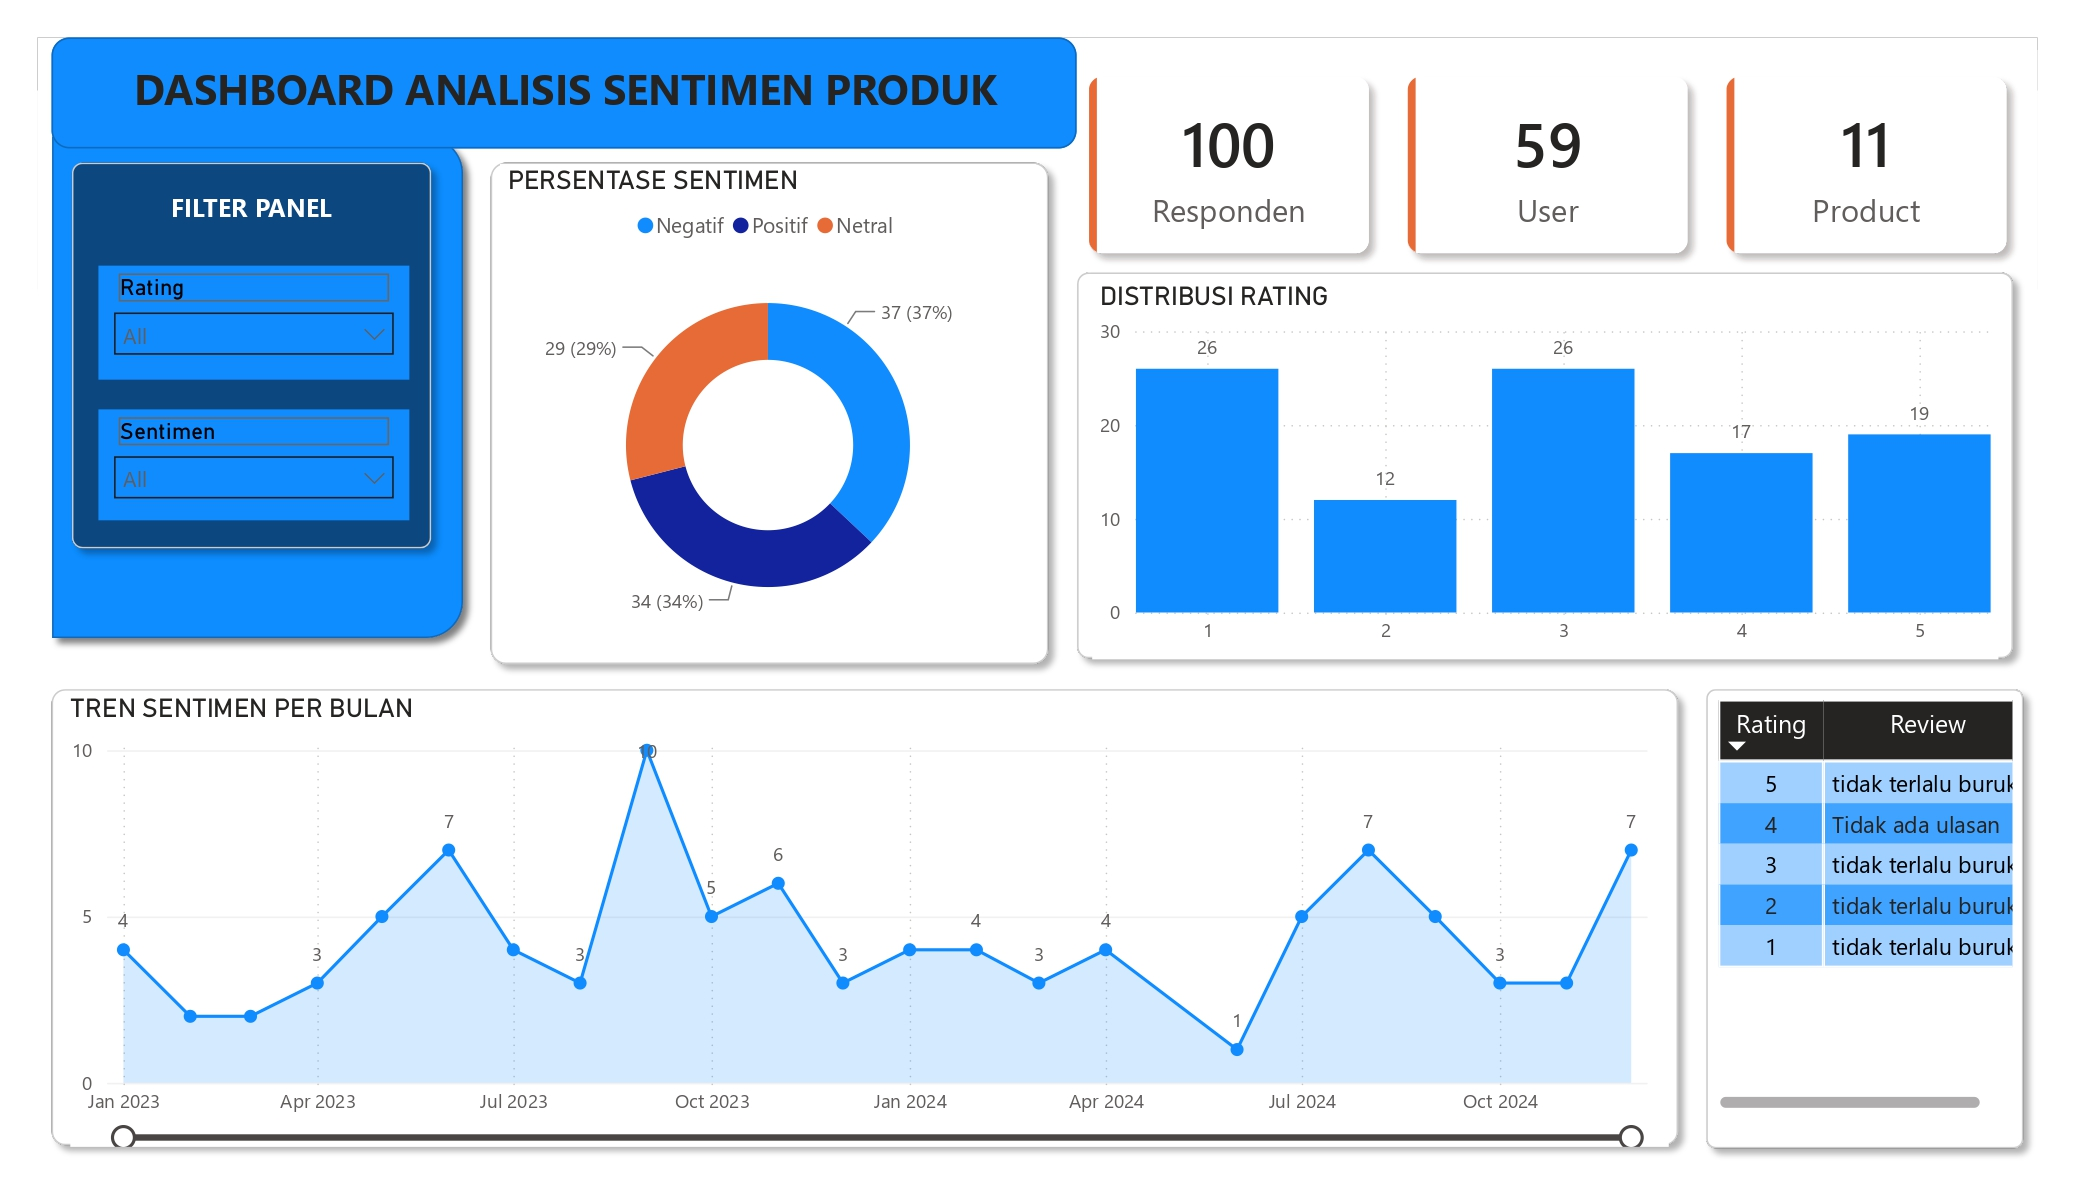

Layout of this report page (visuals, bound fields, positions):
{"tool":"powerbi","page":{"name":"Page 1","canvas":[1280,720],"ordinal":0},"visuals":[{"type":"cardVisual","fields":{"Data":["CountNonNull(hasil_sentimen.user_id)1","Count(hasil_sentimen.user_id)","Count(hasil_sentimen.product_id)"]},"box":[656.2,7.5,623.8,147.5],"z":0},{"type":"shape","box":[0,53.8,281.2,338.8],"z":1000},{"type":"shape","box":[281.2,71.2,375,338.8],"z":2000},{"type":"donutChart","title":"PERSENTASE SENTIMEN","fields":{"Category":["hasil_sentimen.label_sentimen"],"Y":["CountNonNull(hasil_sentimen.label_sentimen)"]},"box":[296.2,81.2,342.5,311.2],"z":3000},{"type":"shape","box":[656.2,141.2,616.2,265],"z":4000},{"type":"shape","box":[0,407.5,1058.8,310],"z":5000},{"type":"columnChart","title":"DISTRIBUSI RATING","fields":{"Y":["CountNonNull(hasil_sentimen.label_sentimen)"],"Category":["hasil_sentimen.rating"]},"box":[675,155,580,242.5],"z":6000},{"type":"lineChart","title":"TREN SENTIMEN PER BULAN","fields":{"Y":["CountNonNull(hasil_sentimen.label_sentimen)"],"Category":["hasil_sentimen.bulan.Variation.Date Hierarchy.Year","hasil_sentimen.bulan.Variation.Date Hierarchy.Month"]},"box":[21.2,418.8,1022.5,291.2],"z":7000},{"type":"shape","box":[1058.8,407.5,221.2,312.5],"z":8000},{"type":"pivotTable","fields":{"Rows":["hasil_sentimen.rating"],"Values":["Max(hasil_sentimen.review_text)"]},"box":[1071.2,418.8,197.5,272.5],"z":9000},{"type":"shape","box":[12.5,71.2,248.8,265],"z":10000},{"type":"textbox","box":[65,92.5,143.8,31.2],"z":11000},{"type":"slicer","title":"Rating","fields":{"Values":["hasil_sentimen.rating"]},"box":[38.8,146.2,198.8,72.5],"z":12000},{"type":"slicer","title":"Rating","fields":{"Values":["hasil_sentimen.label_sentimen"]},"box":[38.8,237.5,198.8,71.2],"z":13000},{"type":"shape","box":[8.8,0,656.2,71.2],"z":14000},{"type":"textbox","box":[52.5,8.8,570,53.8],"z":15000}]}

Visuals, with their boxes in screenshot pixels (x1, y1, x2, y2):
cardVisual - CountNonNull(hasil_sentimen.user_id)1 x Count(hasil_sentimen.user_id): 1055,44,2017,271
shape: 43,115,477,638
shape: 477,142,1055,665
"PERSENTASE SENTIMEN" donutChart: 500,158,1028,638
shape: 1055,250,2005,659
shape: 43,661,1676,1139
"DISTRIBUSI RATING" columnChart: 1084,271,1978,645
"TREN SENTIMEN PER BULAN" lineChart: 76,678,1653,1127
shape: 1676,661,2017,1143
pivotTable - hasil_sentimen.rating x Max(hasil_sentimen.review_text): 1695,678,2000,1098
shape: 63,142,446,551
textbox: 143,175,365,223
"Rating" slicer: 103,258,410,370
"Rating" slicer: 103,399,410,508
shape: 57,32,1069,142
textbox: 124,46,1003,129
